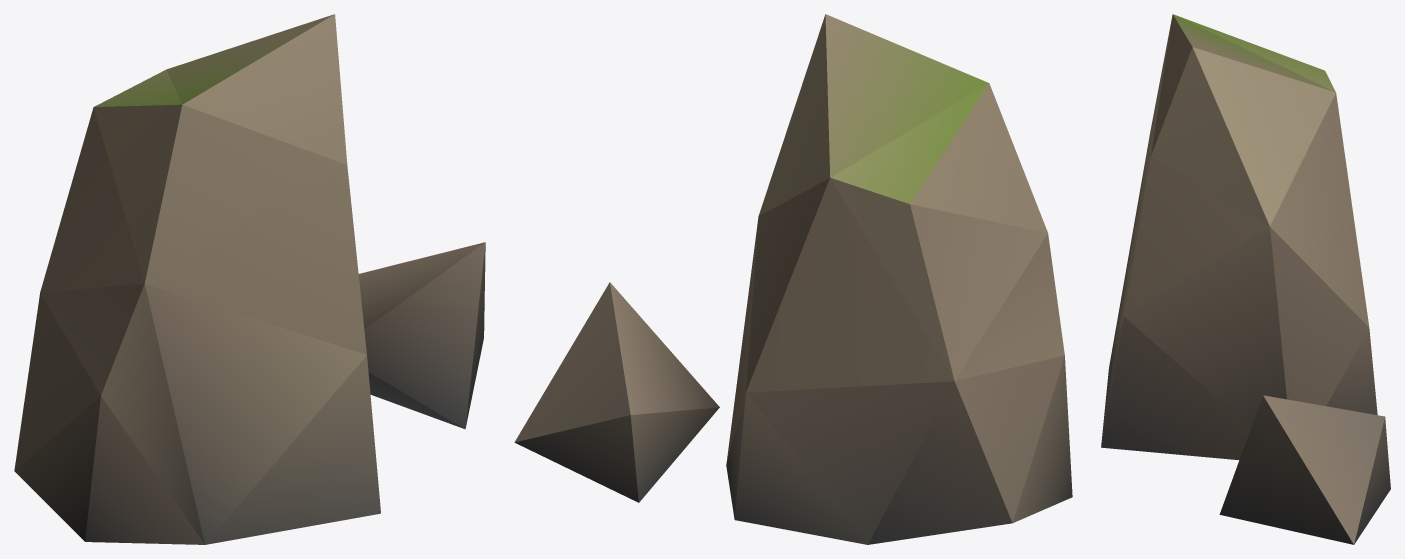
File: Rock_C_LOD1.fbx
3 renders of one model, left to right at view 1: azimuth 30°, elevation 25°; view 2: azimuth 150°, elevation 25°; view 3: azimuth 270°, elevation 25°, orthographic. The views are drawn at different scales.
Parts seen in each view (by area): view 1: Rock_C_LOD1; view 2: Rock_C_LOD1; view 3: Rock_C_LOD1.
Boxes of the visible parts, x1,y1,x2,y2 form: Rock_C_LOD1: (14, 14, 485, 544); Rock_C_LOD1: (514, 14, 1072, 544); Rock_C_LOD1: (1101, 14, 1390, 544).
Size of the model in its own units: 2.24 by 1.98 by 1.28.
